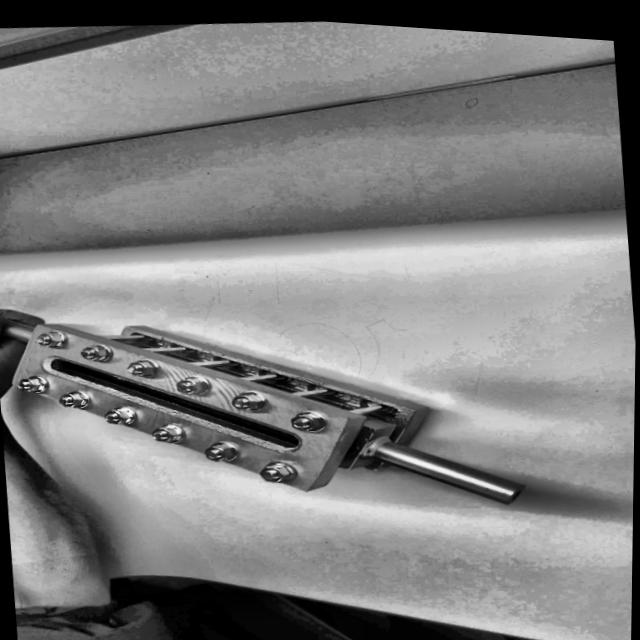ShuiWeiQi_12: (16, 279, 525, 547)
